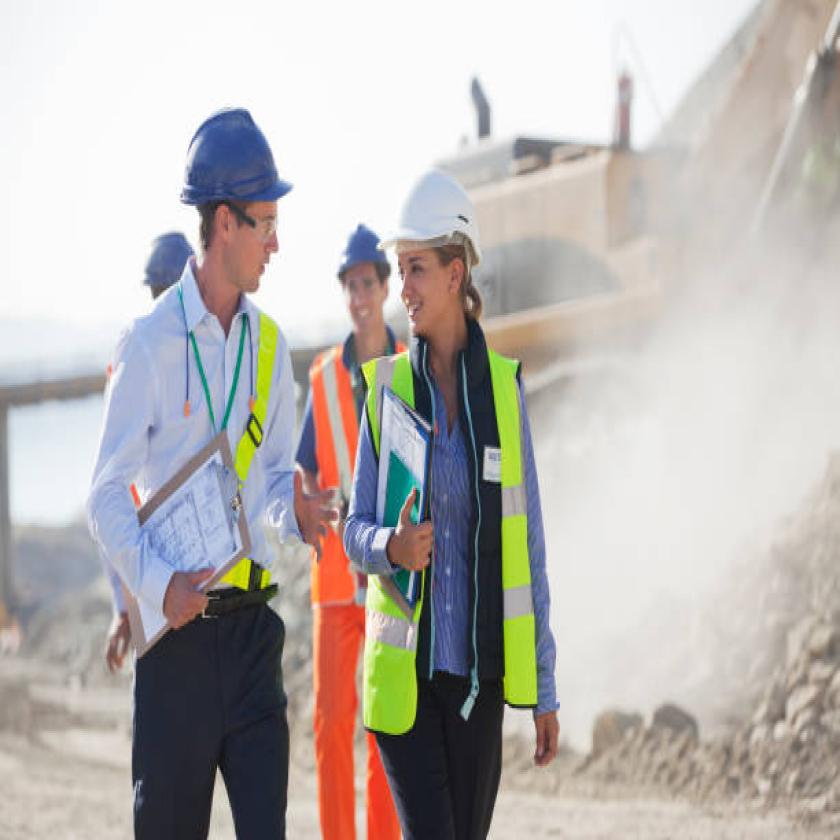Con_casco: (177, 102, 296, 319), (397, 137, 492, 357), (333, 215, 399, 348)
